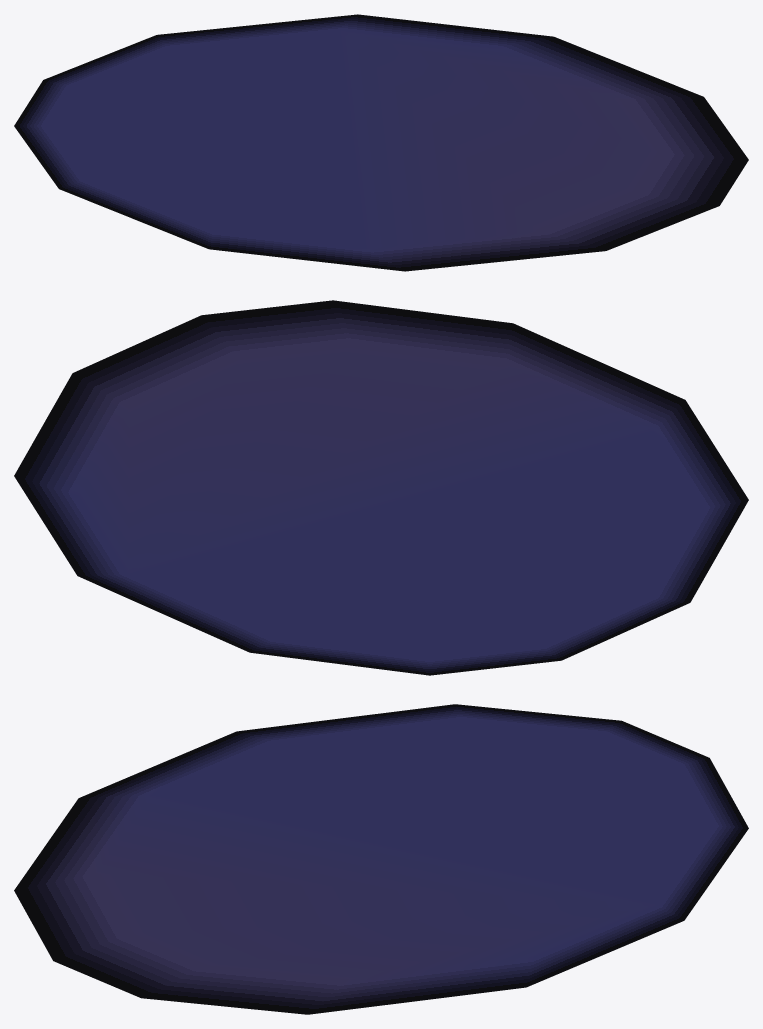
The picture shows the model from 3 angles, top to bottom: view 1: azimuth 30°, elevation 25°; view 2: azimuth 150°, elevation 25°; view 3: azimuth 270°, elevation 25°; orthographic projection. The views are drawn at different scales.
Visible parts, largest first — view 1: Joint_0_Object_0; view 2: Joint_0_Object_0; view 3: Joint_0_Object_0.
Boxes of the visible parts, x1,y1,x2,y2 form: Joint_0_Object_0: (14, 14, 748, 271); Joint_0_Object_0: (14, 300, 748, 675); Joint_0_Object_0: (14, 704, 748, 1014).
Size of the model in its own units: 325 by 0 by 325.
Materials: 1 (1 with a texture image).
